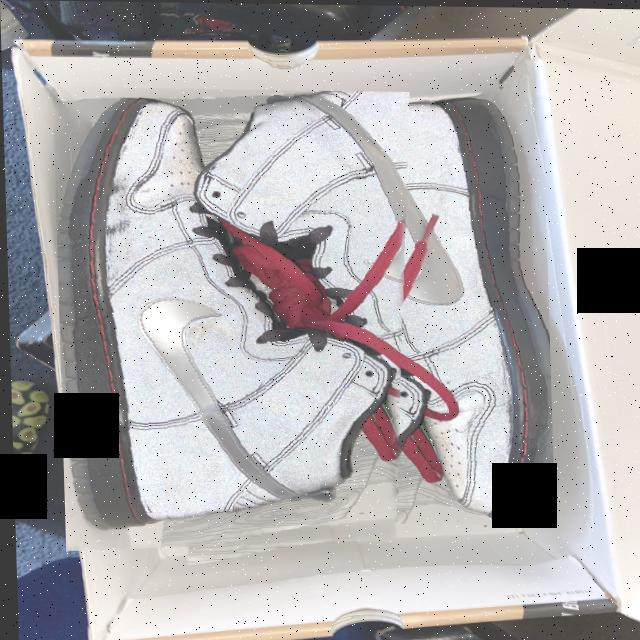shoe: (52, 87, 421, 557), (191, 76, 552, 524)
